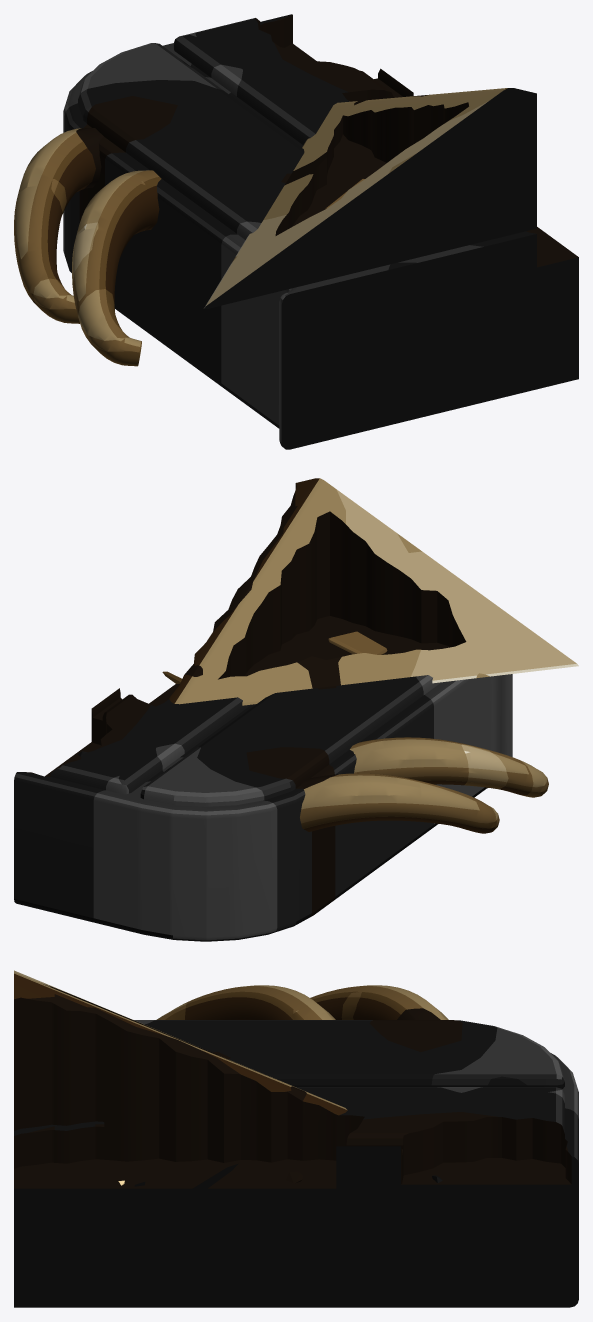
Rendered from gold_pyramid_tl_wreck.glb.
3 views of the same model, one above another, from view 1: azimuth 30°, elevation 25°; view 2: azimuth 150°, elevation 25°; view 3: azimuth 270°, elevation 25° (orthographic). The views are drawn at different scales.
Visible parts, largest first — view 1: gold_pyramid_tl_wreck; view 2: gold_pyramid_tl_wreck; view 3: gold_pyramid_tl_wreck.
Part boxes in pixels (<box>): gold_pyramid_tl_wreck: <box>14,14,578,449</box>; gold_pyramid_tl_wreck: <box>14,478,578,941</box>; gold_pyramid_tl_wreck: <box>14,970,578,1307</box>.
Size of the model in its own units: 20.57 by 14.68 by 25.
